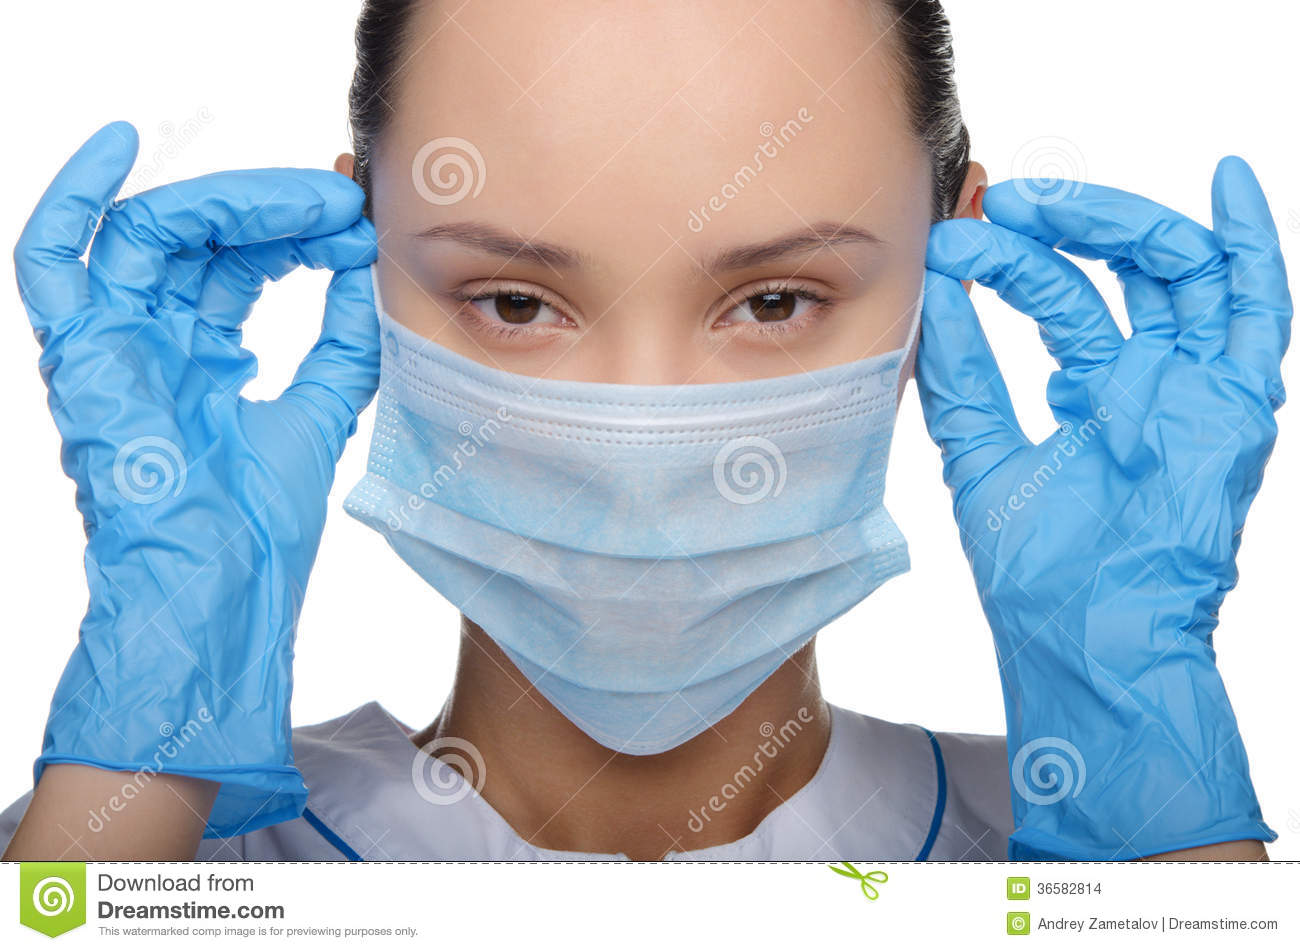mask: (363, 324, 899, 756)
